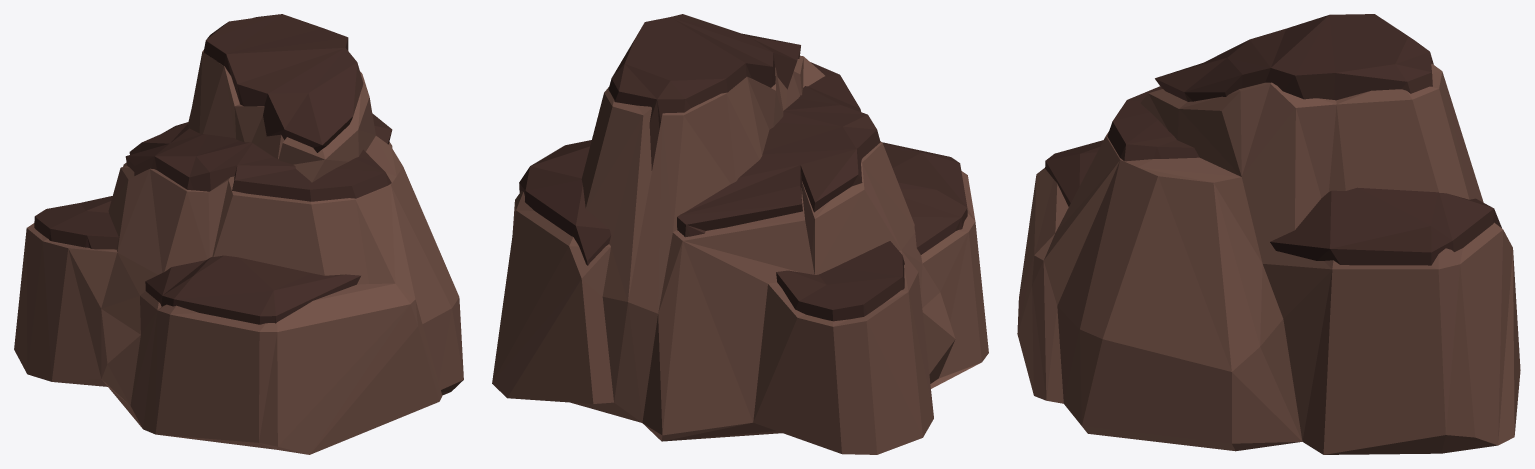
Rendered from Brown_rock_017.fbx.
The picture shows the model from 3 angles, left to right: view 1: azimuth 30°, elevation 25°; view 2: azimuth 150°, elevation 25°; view 3: azimuth 270°, elevation 25°; orthographic projection. The views are drawn at different scales.
Parts seen in each view (by area): view 1: Brown_rock_017; view 2: Brown_rock_017; view 3: Brown_rock_017.
Boxes of the visible parts, left/top/right/bottom form: Brown_rock_017: left=14, top=14, right=463, bottom=454; Brown_rock_017: left=492, top=14, right=988, bottom=454; Brown_rock_017: left=1017, top=14, right=1520, bottom=454.
Size of the model in its own units: 1715 by 1767 by 1379.
